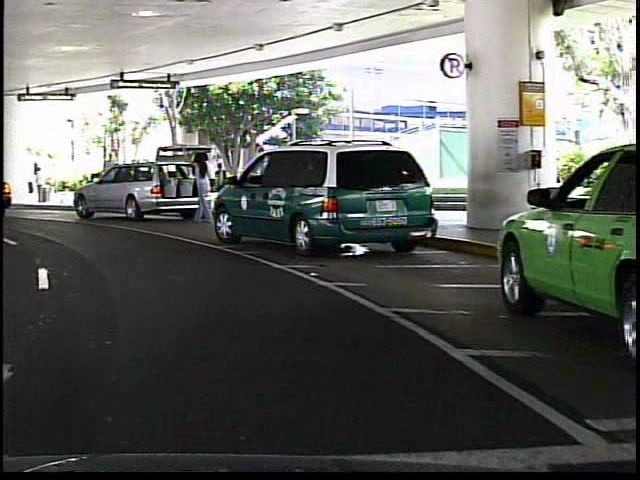person: (183, 155, 228, 213), (190, 148, 210, 227), (96, 149, 119, 202)
